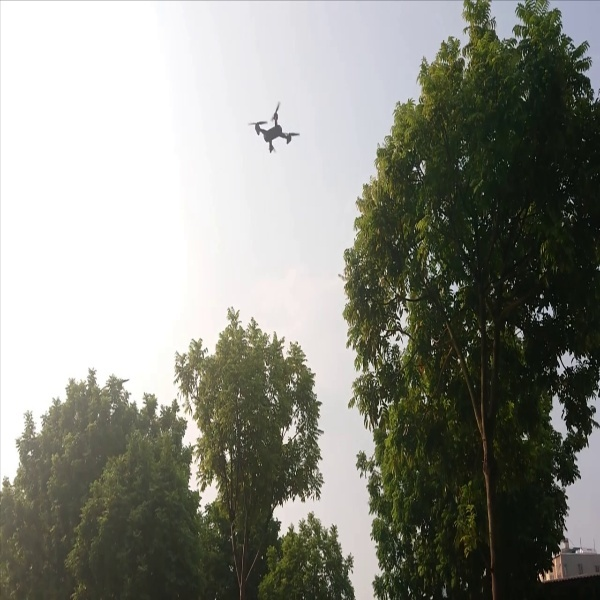drone: (238, 101, 308, 165)
